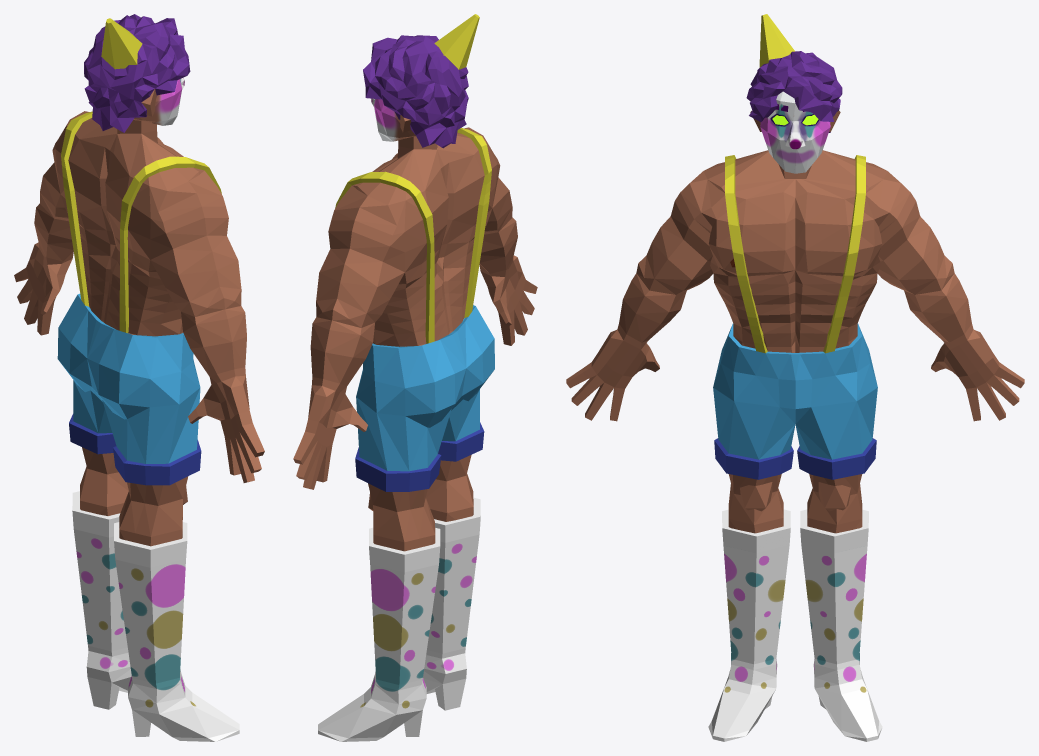
File: mulch model.fbx
3 views of the same model, side by side, from view 1: azimuth 30°, elevation 25°; view 2: azimuth 150°, elevation 25°; view 3: azimuth 270°, elevation 25° (orthographic). The views are drawn at different scales.
Visible parts, largest first — view 1: head.001; view 2: head.001; view 3: head.001.
Boxes of the visible parts, x1,y1,x2,y2 form: head.001: (14,14,264,741); head.001: (293,14,537,741); head.001: (566,14,1024,741).
Size of the model in its own units: 128 by 748 by 458.
10 materials, 2 textured.
